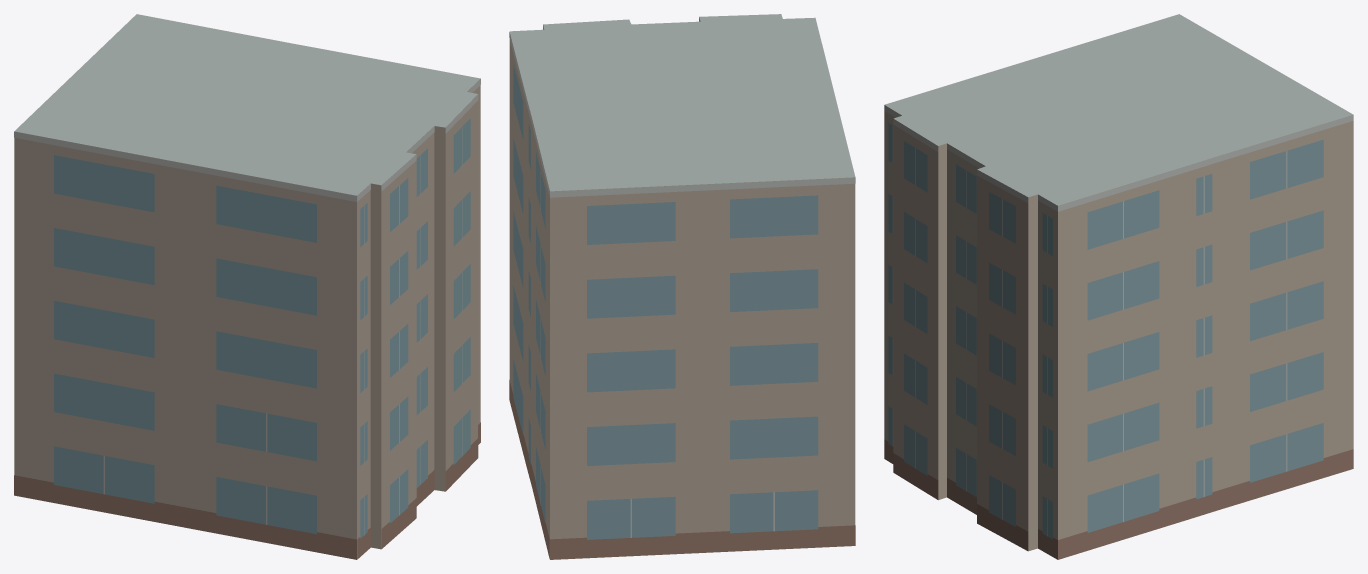
The model's file is survey-upis-32720278.glb.
The picture shows the model from 3 angles, left to right: view 1: azimuth 30°, elevation 25°; view 2: azimuth 150°, elevation 25°; view 3: azimuth 270°, elevation 25°; orthographic projection. The views are drawn at different scales.
Visible parts, largest first — view 1: survey-upis-32720278.tmp; view 2: survey-upis-32720278.tmp; view 3: survey-upis-32720278.tmp.
Part boxes in pixels (x1,y1,x2,y2): survey-upis-32720278.tmp: (14, 14, 480, 559); survey-upis-32720278.tmp: (509, 14, 855, 559); survey-upis-32720278.tmp: (884, 14, 1353, 559).
Bounding box in the file's own units: 16.57 × 14.25 × 17.13.
